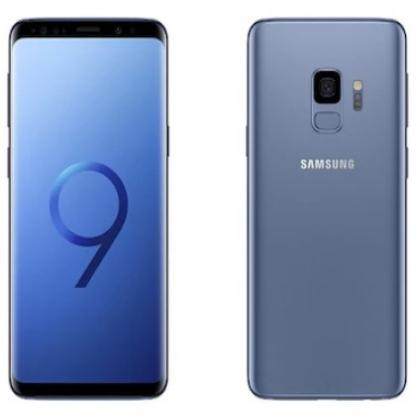SMARTPHONE: (0, 20, 169, 403), (245, 21, 411, 405)
